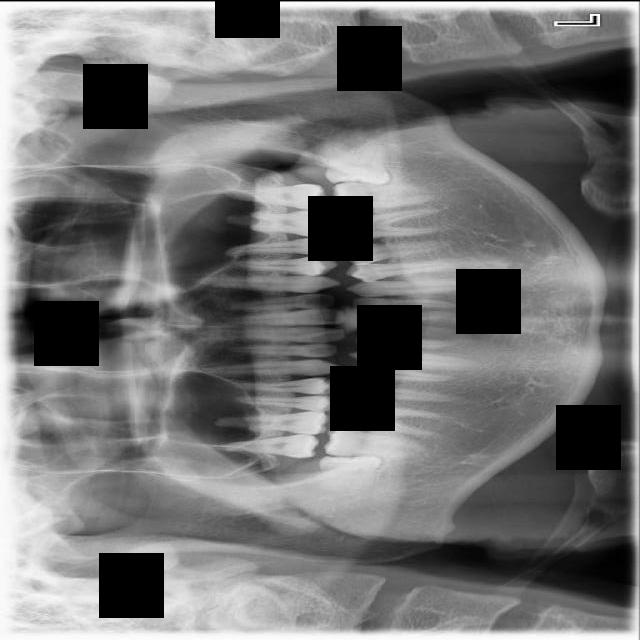73: (580, 30, 596, 46)
BioHorizons Implant: (219, 182, 328, 210)
Biomet 3i Implant: (317, 138, 394, 185)
Blue Sky Bio Implant: (325, 169, 434, 216)
Caries: (214, 431, 321, 468)
Implant: (322, 425, 426, 458)
Keystone Dental Implant: (318, 454, 382, 492)
